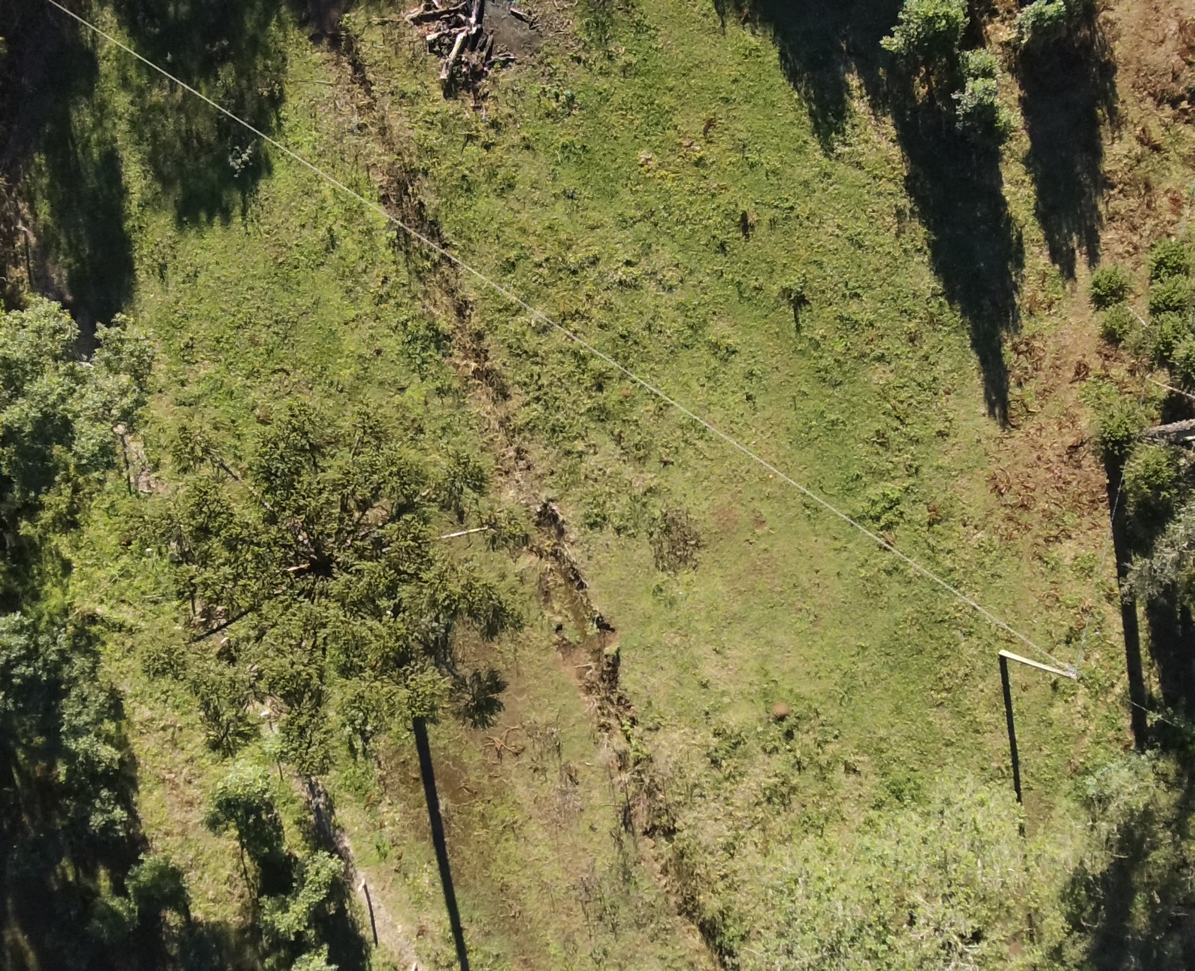erva: (218, 764, 292, 854), (266, 857, 339, 933), (893, 0, 978, 63), (9, 302, 88, 364), (76, 403, 128, 477), (30, 370, 75, 447), (100, 316, 158, 373), (81, 366, 136, 426), (87, 880, 141, 940), (958, 77, 1011, 131), (1005, 7, 1067, 52), (960, 46, 1004, 94), (138, 854, 184, 893)
